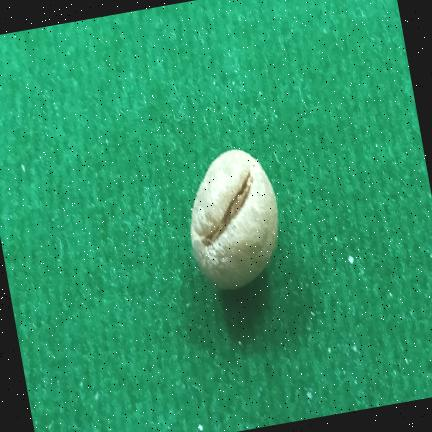good: (191, 149, 278, 289)
